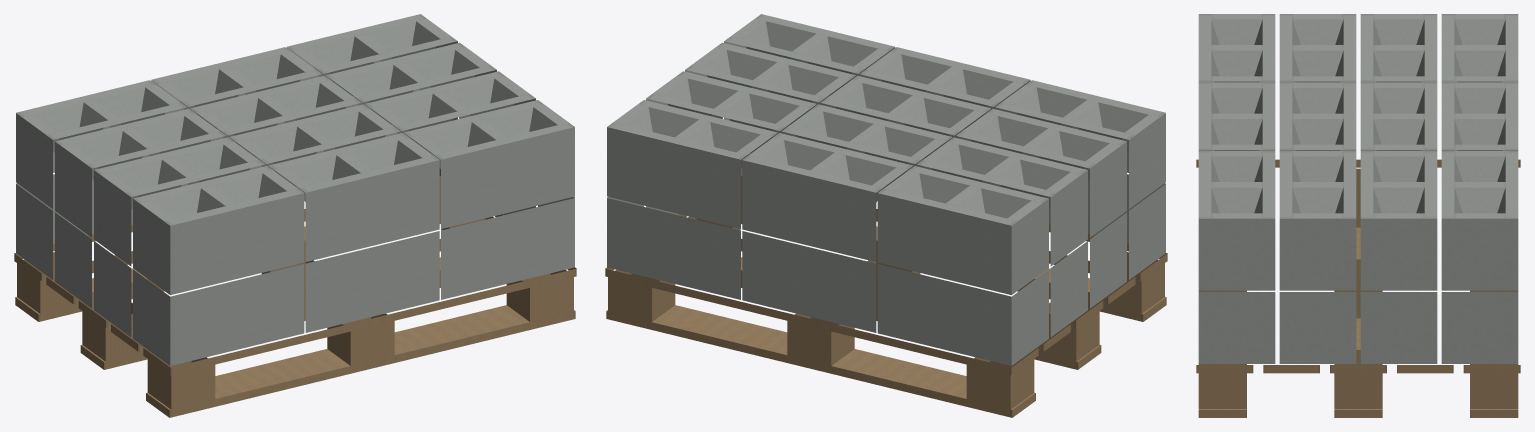
Rendered from 15_pallet_concrete_blocks.glb.
The picture shows the model from 3 angles, left to right: view 1: azimuth 30°, elevation 25°; view 2: azimuth 150°, elevation 25°; view 3: azimuth 270°, elevation 25°; orthographic projection. The views are drawn at different scales.
Visible parts, largest first — view 1: 15_pallet_concrete_blocks; view 2: 15_pallet_concrete_blocks; view 3: 15_pallet_concrete_blocks.
Boxes of the visible parts, left/top/right/bottom form: 15_pallet_concrete_blocks: left=14, top=14, right=576, bottom=417; 15_pallet_concrete_blocks: left=605, top=14, right=1167, bottom=417; 15_pallet_concrete_blocks: left=1196, top=14, right=1520, bottom=417.
Size of the model in its own units: 1.2 by 0.542 by 0.8.
1 material, 1 textured.
